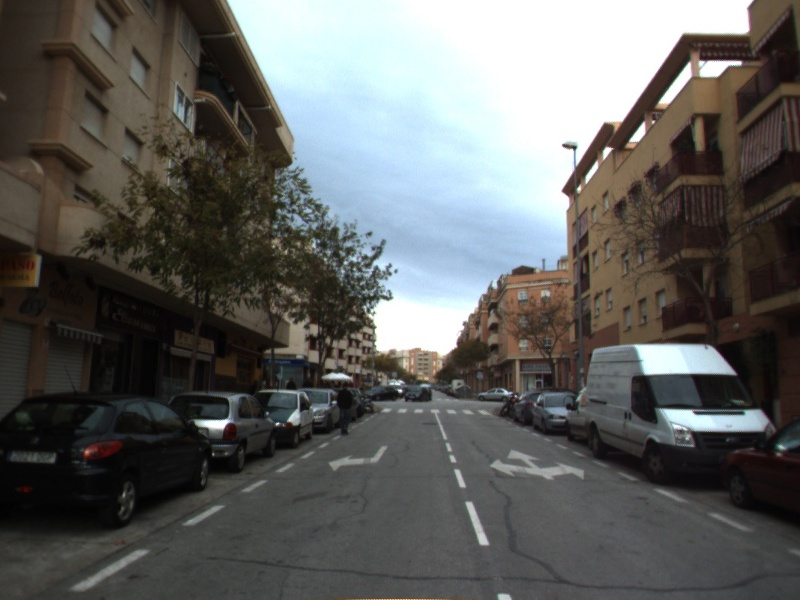STRAIGHT_LEFT_RIGHT: (488, 447, 586, 482)
